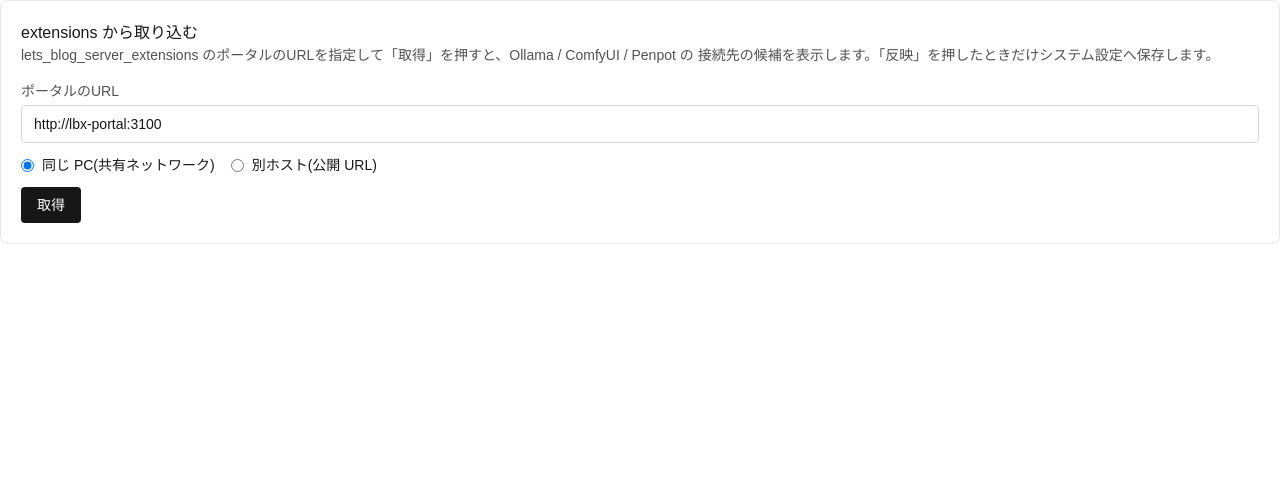
Test case: ExtensionsImportPanel(issue #1783) › 反映すると、保存した項目と、保存されなかった項目のキーと理由を表示する
Click the button "取得" at (51, 205), box [21,187,81,223]
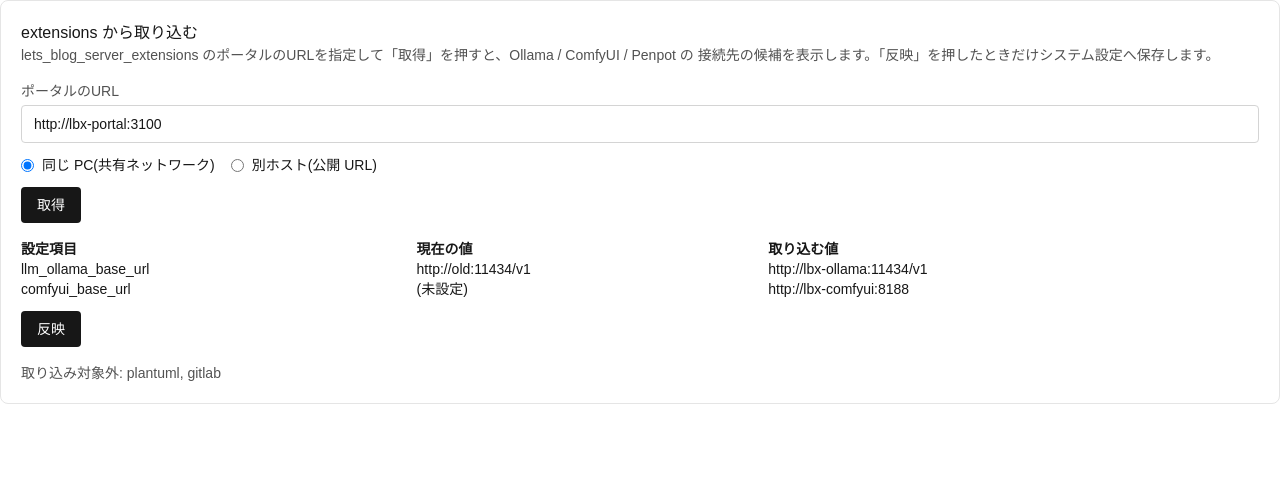
Click the button "反映" at (51, 329), box [21,311,81,347]
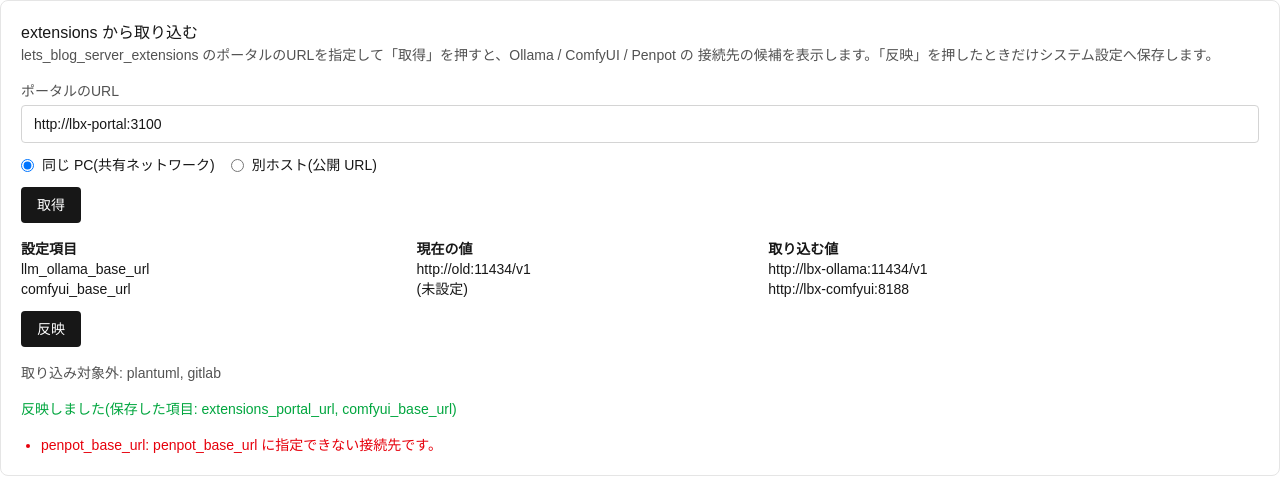
Result: the message shows "反映しました" at [21,401,202,417]
Result: the message shows "comfyui_base_url" at [202,401,452,417]
Result: the list item shows "penpot_base_url" at [41,437,145,453]
